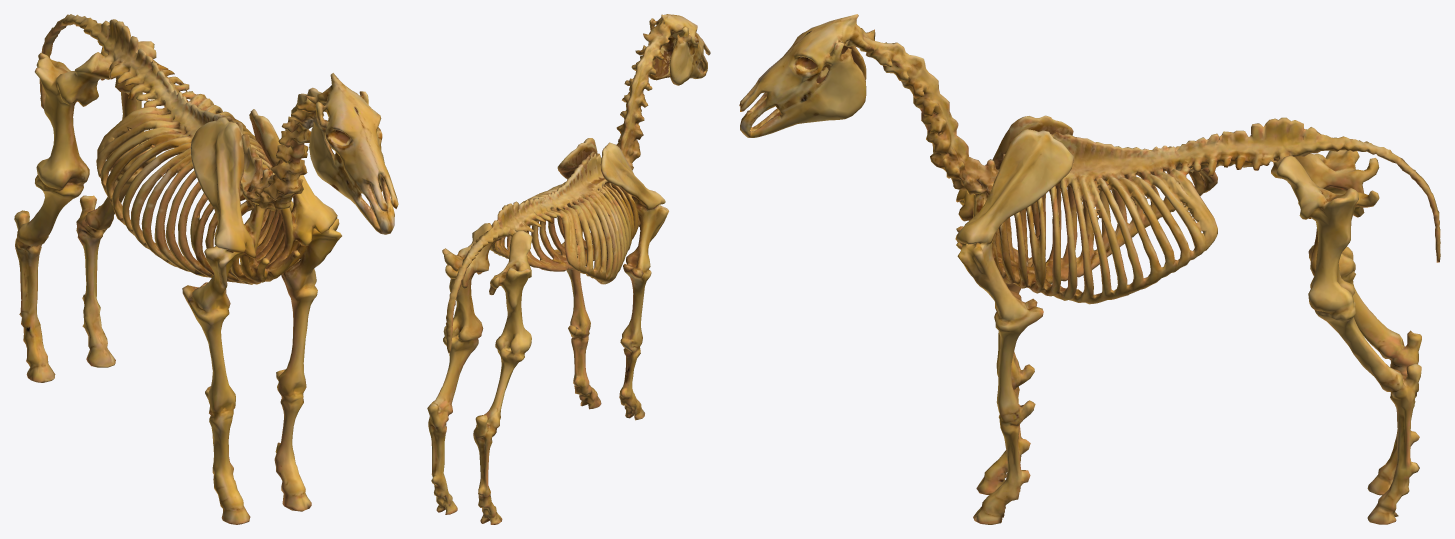
Rendered from cavaloOssea.glb.
3 views of the same model, side by side, from view 1: azimuth 30°, elevation 25°; view 2: azimuth 150°, elevation 25°; view 3: azimuth 270°, elevation 25° (orthographic). The views are drawn at different scales.
Parts seen in each view (by area): view 1: Mesh1.0; view 2: Mesh1.0; view 3: Mesh1.0.
Boxes of the visible parts, x1,y1,x2,y2 form: Mesh1.0: [14, 14, 398, 524]; Mesh1.0: [427, 14, 710, 524]; Mesh1.0: [739, 14, 1440, 524].
Bounding box in the file's own units: 0.4549 × 1.48 × 1.92.
1 material, 1 textured.
